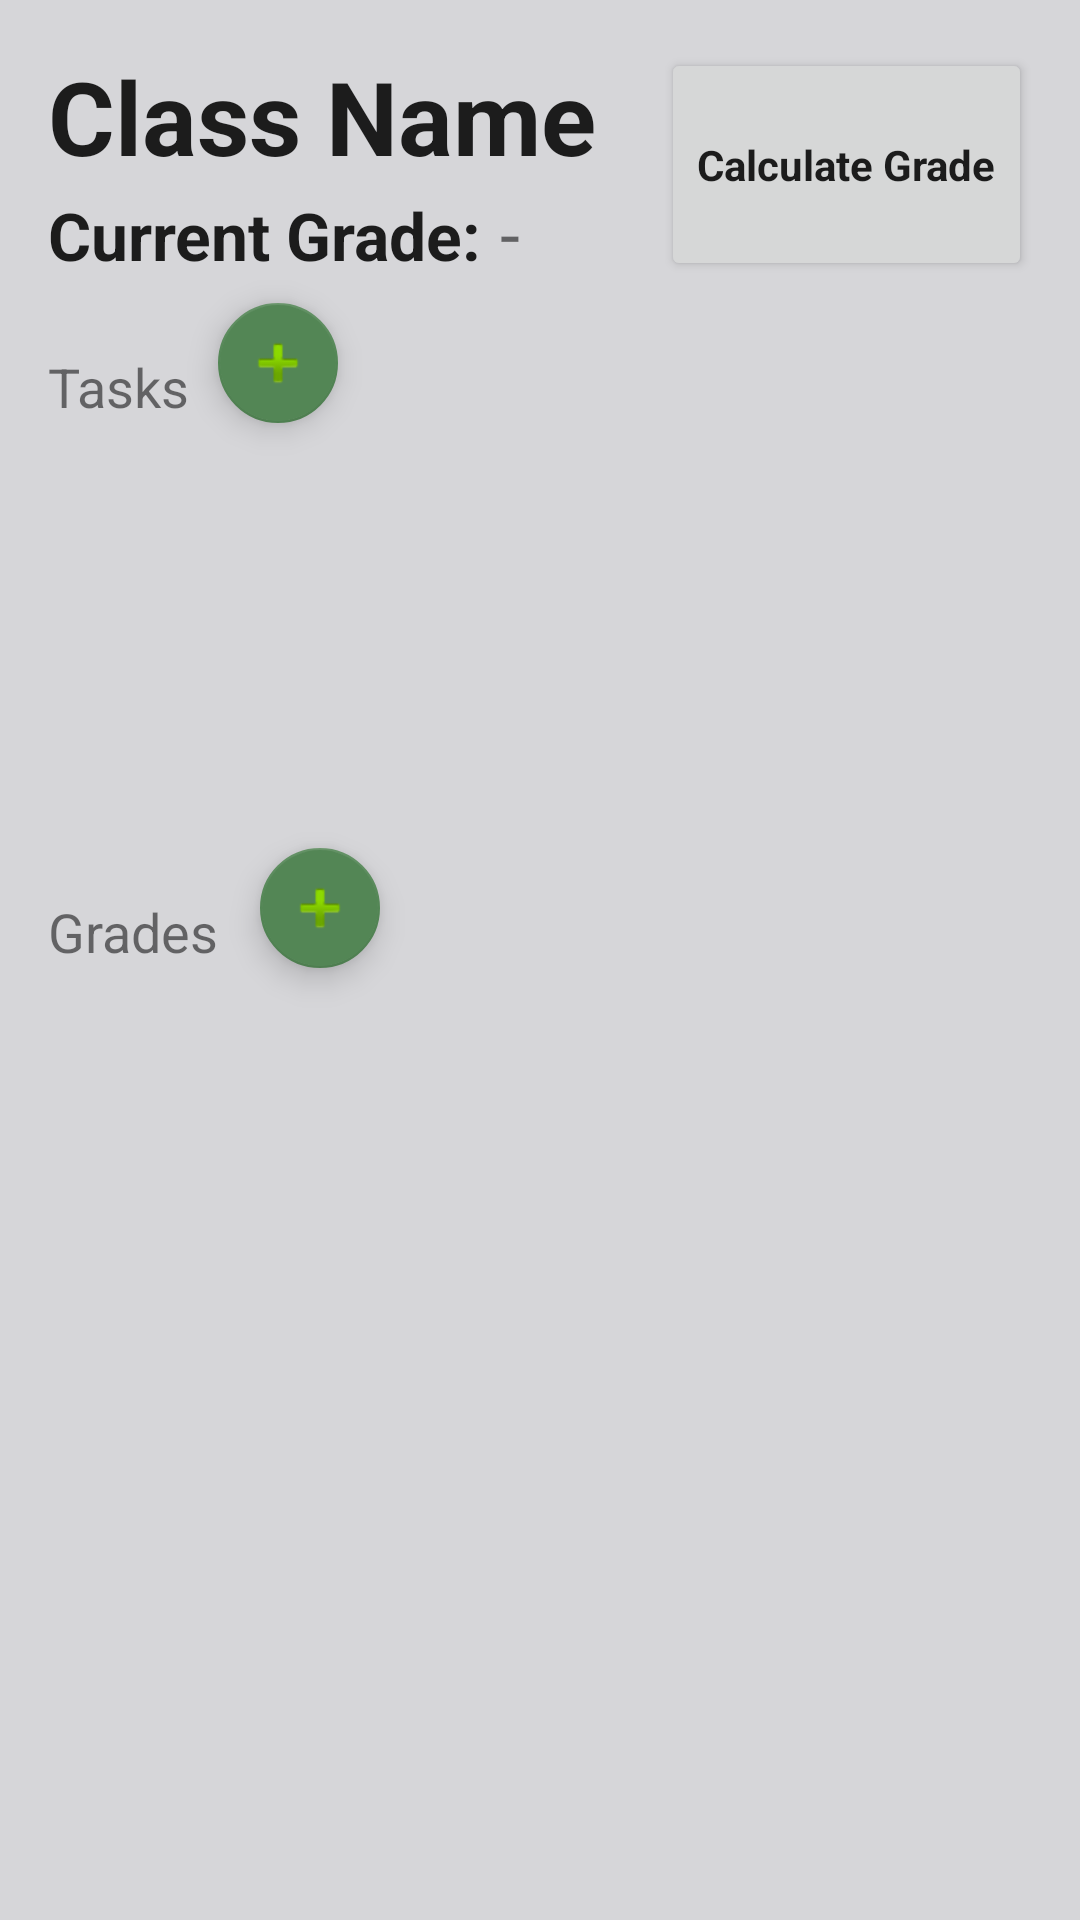

Where to tap for icons on this 1080 × 1920 app screen, as point (x, y):
add: point (278, 363), point (320, 908)
